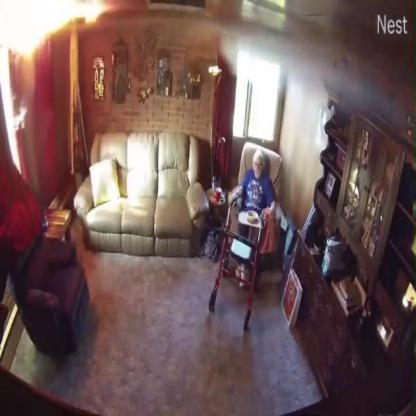Fire: (0, 0, 106, 58)
